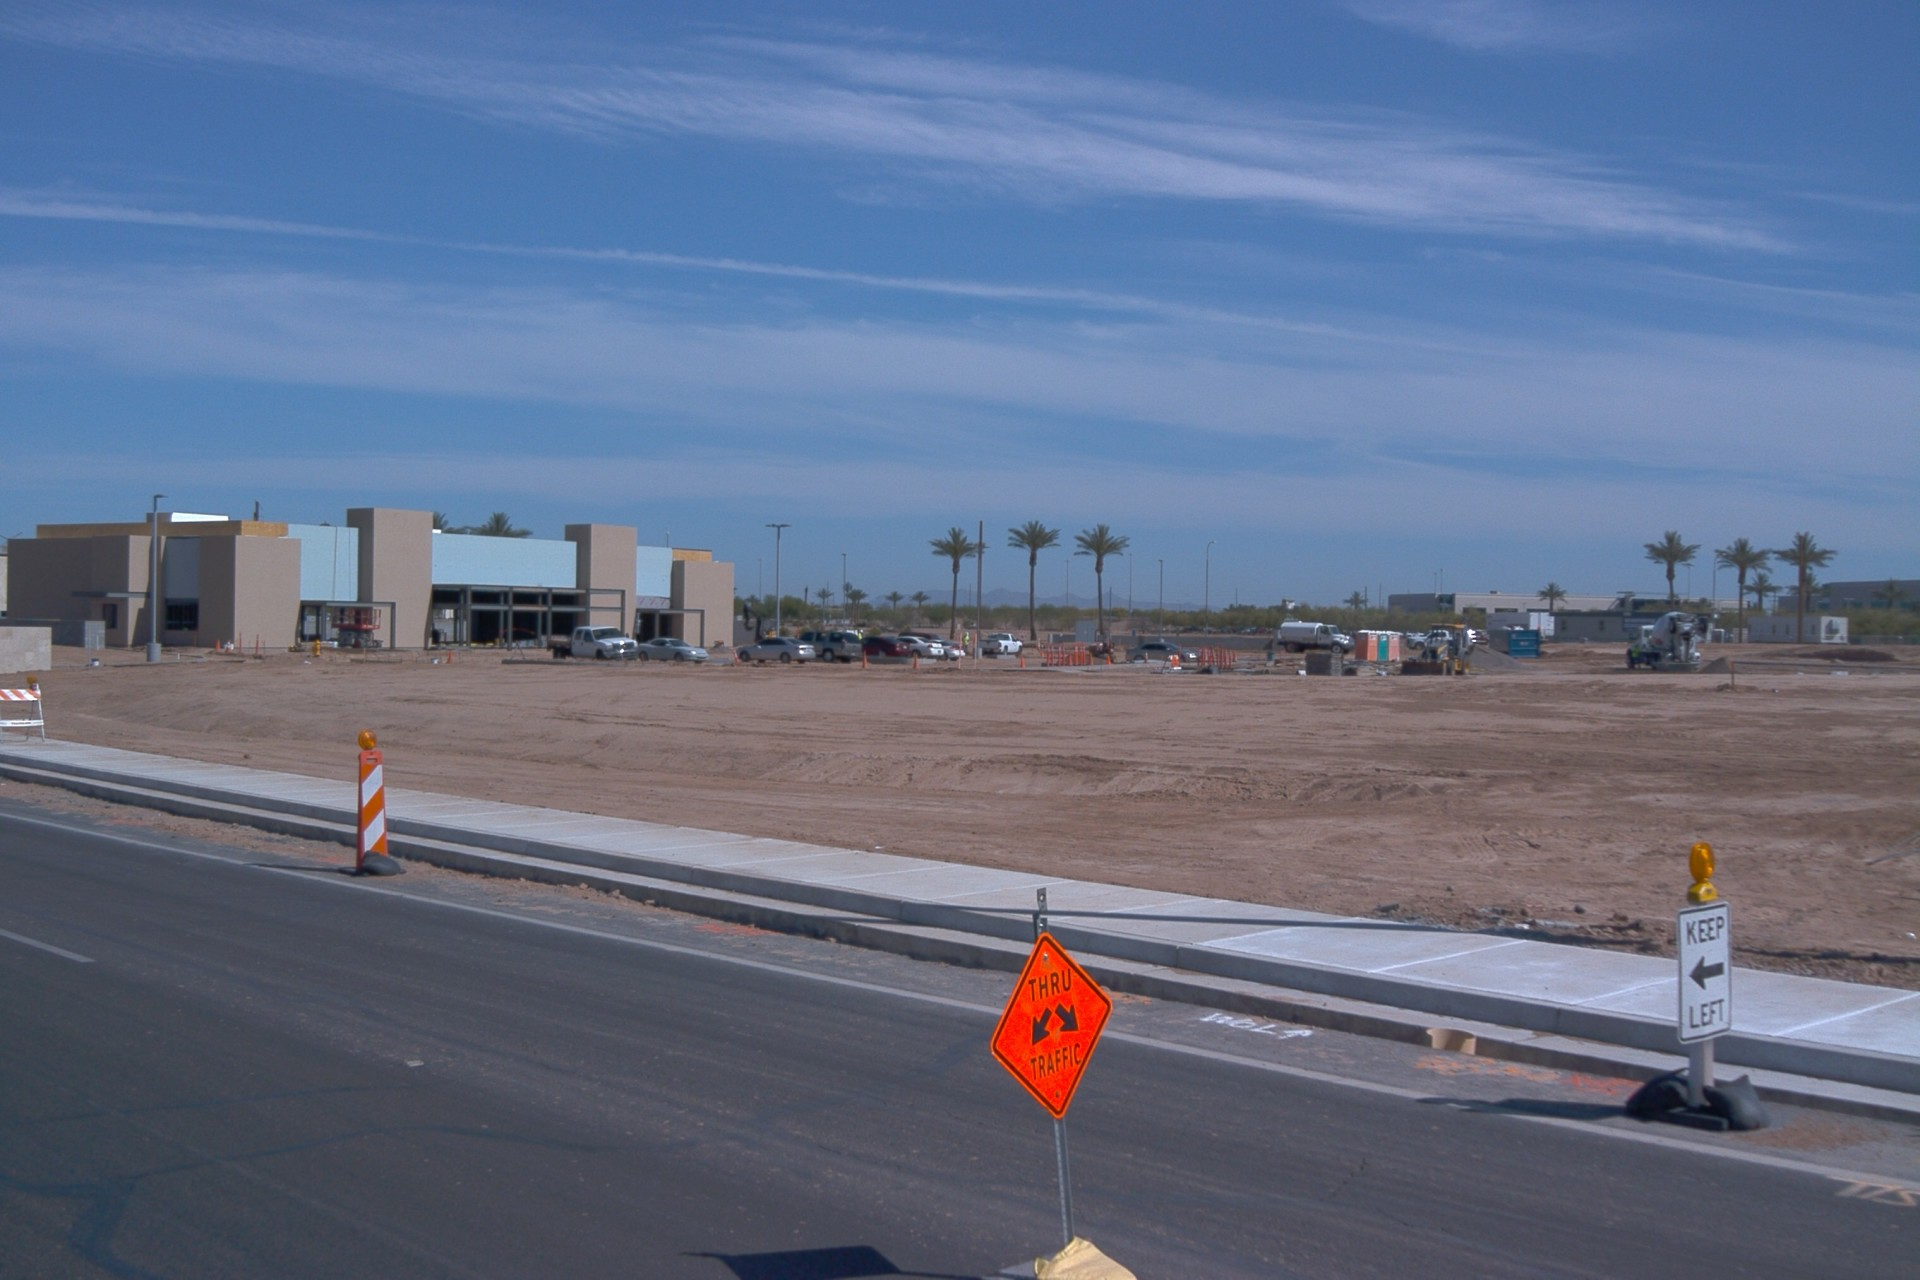TYPE_PEDESTRIAN: (1628, 641, 1642, 667), (960, 629, 973, 657)
TYPE_VEHICLE: (1627, 609, 1708, 672), (1395, 616, 1470, 674), (547, 621, 641, 660), (1275, 621, 1353, 660), (796, 622, 865, 666), (737, 634, 818, 663), (857, 627, 915, 659), (638, 634, 712, 658), (1126, 643, 1197, 664), (1405, 630, 1470, 651), (894, 633, 943, 657), (977, 631, 1026, 655), (933, 637, 967, 660), (893, 631, 941, 645), (328, 614, 354, 627), (834, 630, 861, 637), (1405, 633, 1424, 639), (1400, 633, 1407, 639)
